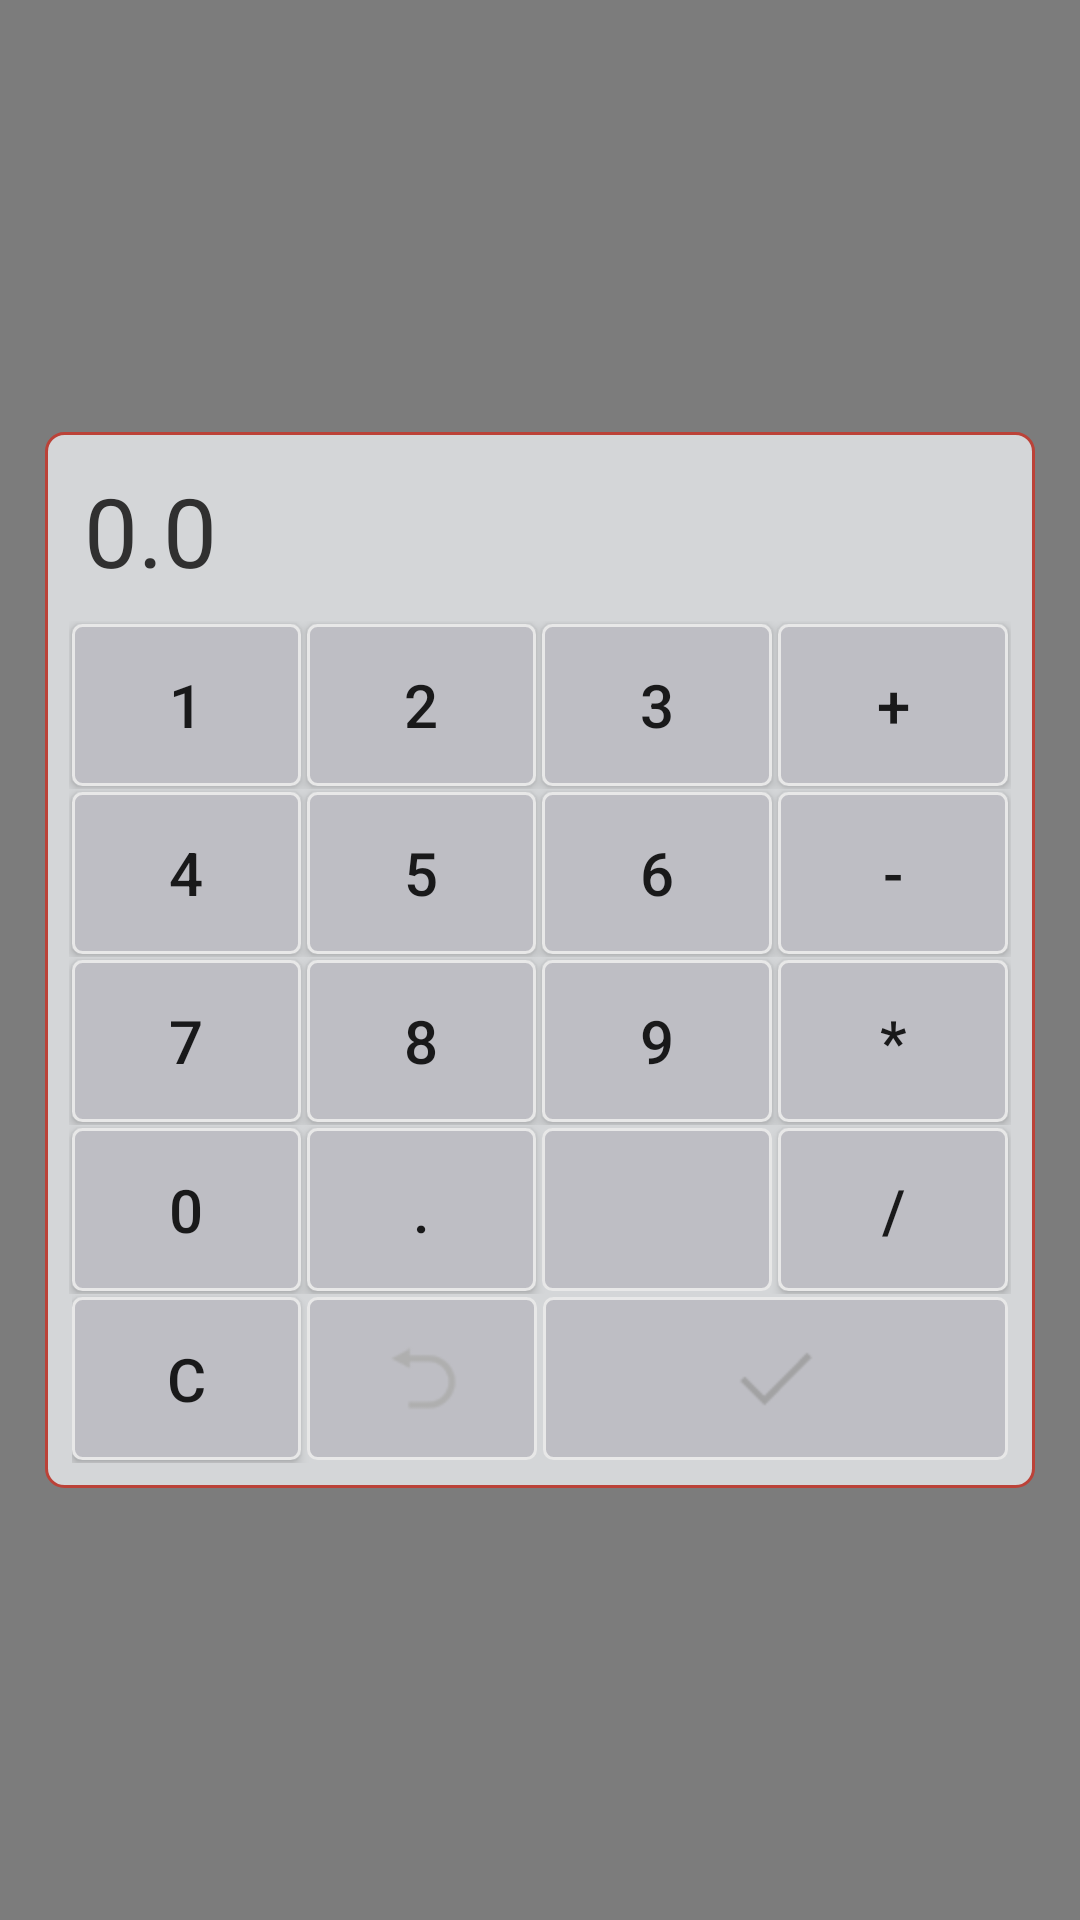

Screen size 1080px x 1920px. Icon name, then its box in pixels as rect(x1, y1, x2, y2):
undo: rect(307, 1297, 537, 1460)
